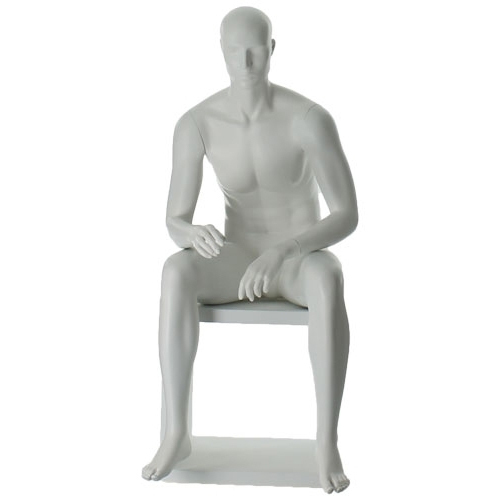person-like: (133, 1, 365, 497)
